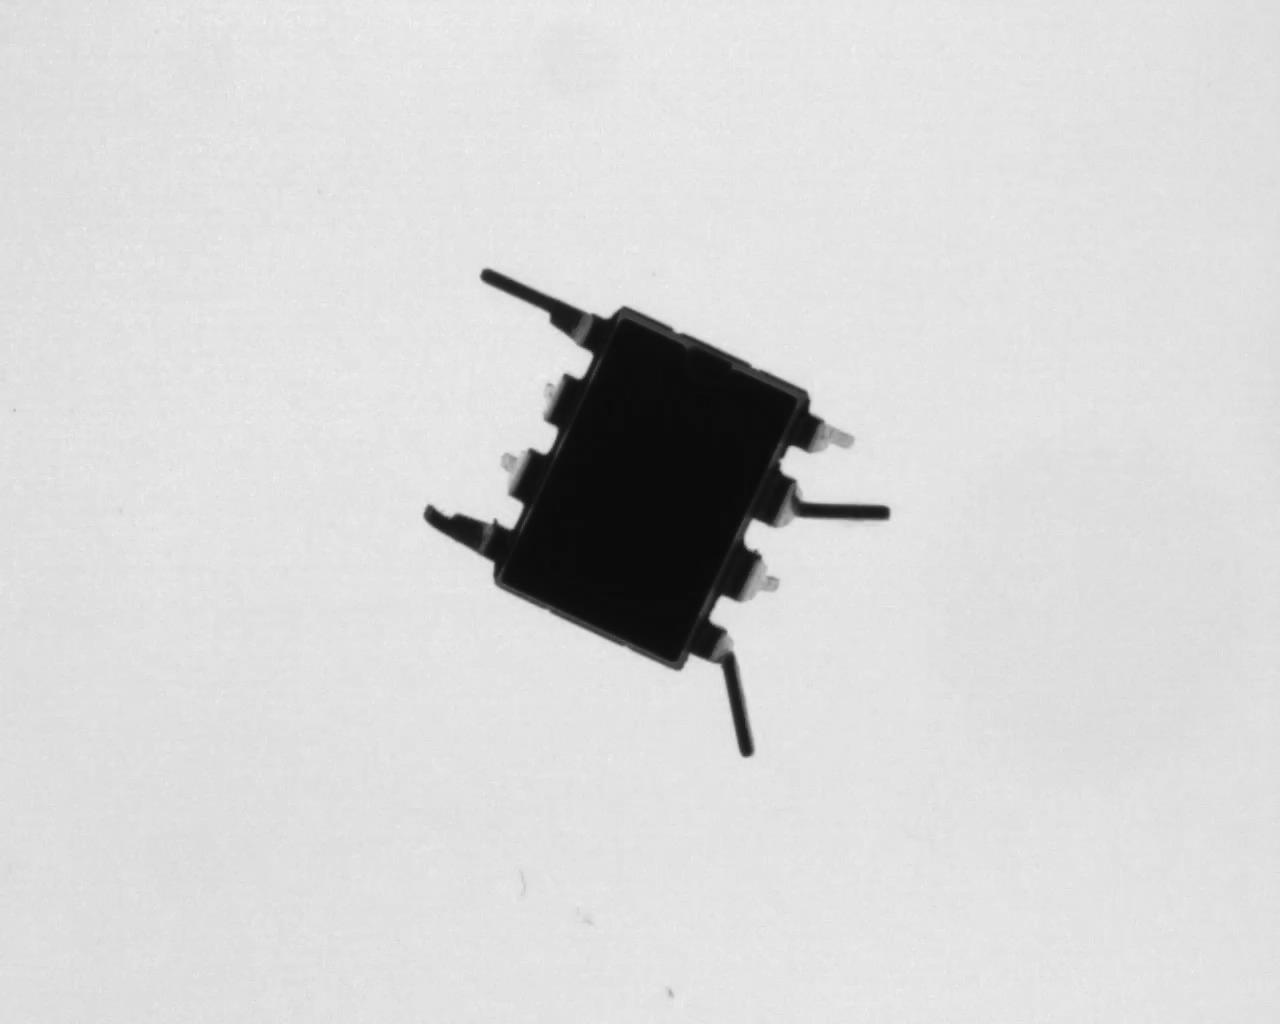Leg: (479, 261, 612, 352), (749, 463, 891, 529), (692, 620, 755, 758), (421, 502, 513, 558), (718, 538, 781, 604), (499, 442, 553, 506), (786, 405, 855, 455), (538, 370, 584, 433)
